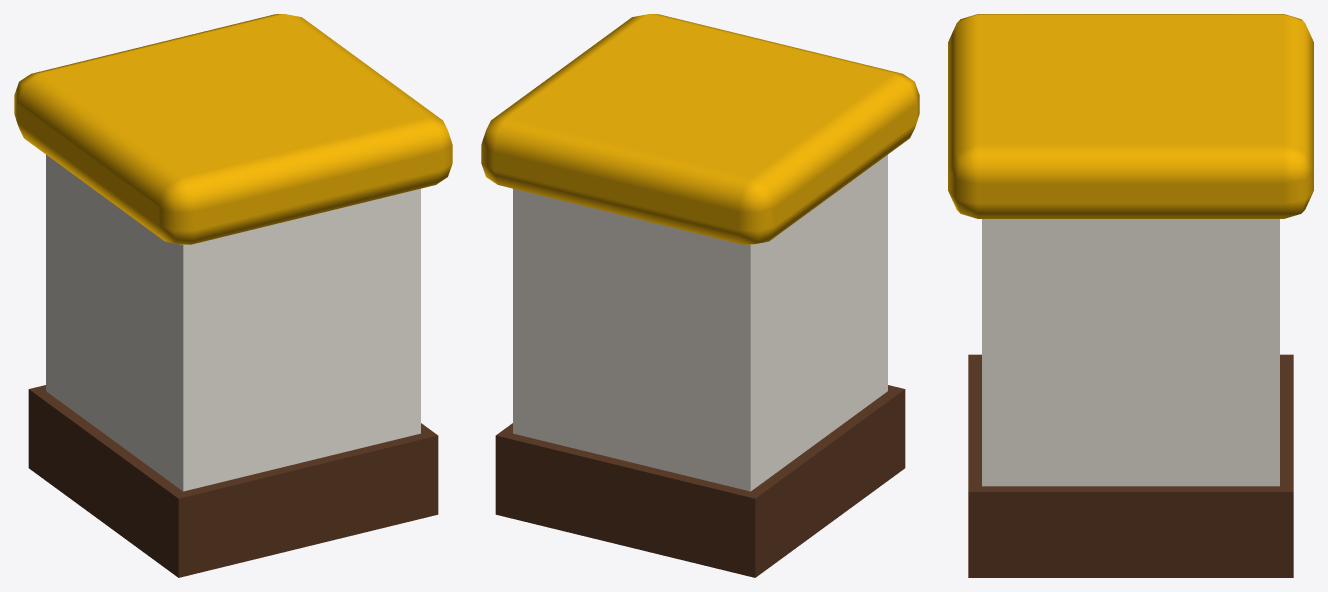
The model's file is pfosten_sockel.glb.
3 renders of one model, left to right at view 1: azimuth 30°, elevation 25°; view 2: azimuth 150°, elevation 25°; view 3: azimuth 270°, elevation 25°, orthographic. The views are drawn at different scales.
Parts seen in each view (by area): view 1: pfosten_sockel; view 2: pfosten_sockel; view 3: pfosten_sockel.
Boxes of the visible parts, x1,y1,x2,y2 form: pfosten_sockel: [14, 14, 452, 577]; pfosten_sockel: [481, 14, 919, 577]; pfosten_sockel: [948, 14, 1313, 577].
Size of the model in its own units: 0.27 by 0.35 by 0.27.
